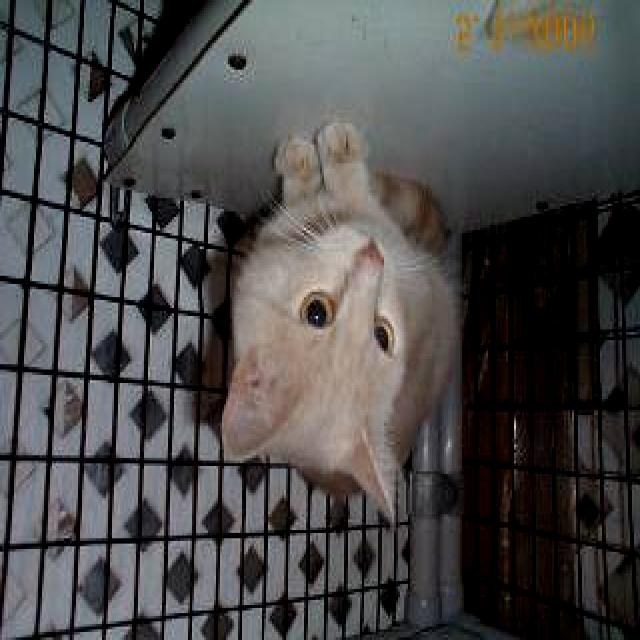Kucing: (56, 90, 571, 618)
